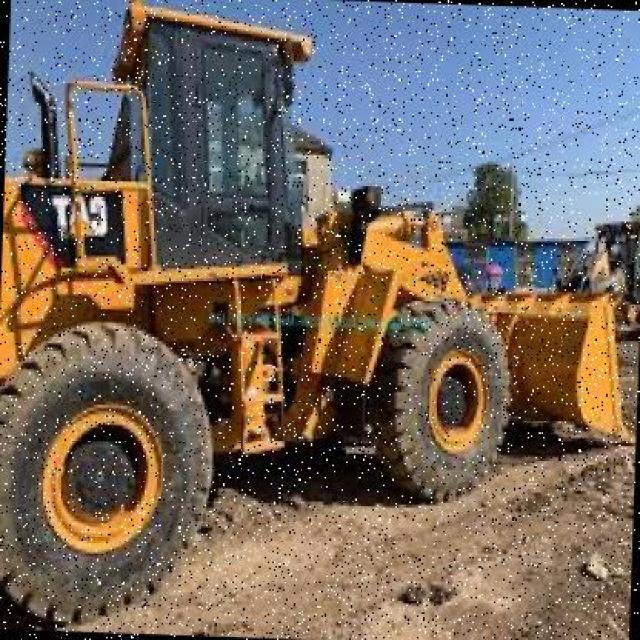bull_dozer/loader/grader: (0, 6, 638, 640)
